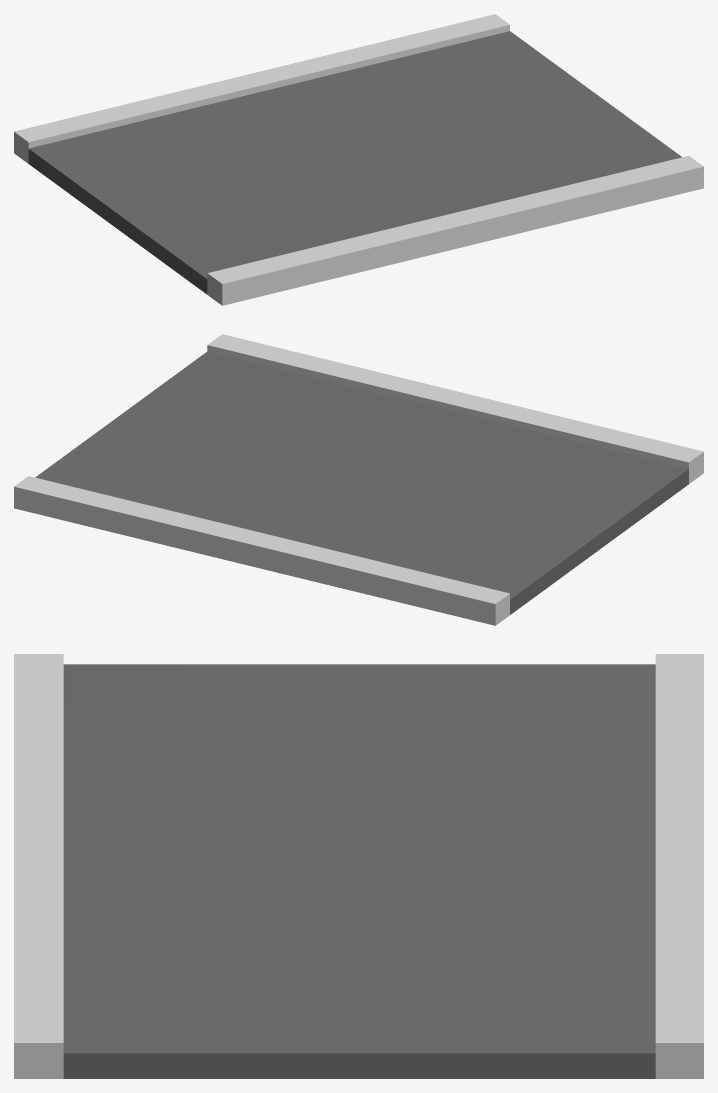
3 views of the same model, one above another, from view 1: azimuth 30°, elevation 25°; view 2: azimuth 150°, elevation 25°; view 3: azimuth 270°, elevation 25° (orthographic). The views are drawn at different scales.
Visible parts, largest first — view 1: Lo-Body_01; view 2: Lo-Body_01; view 3: Lo-Body_01.
Part boxes in pixels (box(x1,y1,x2,y2)): Lo-Body_01: box(14, 14, 703, 305); Lo-Body_01: box(14, 334, 703, 625); Lo-Body_01: box(14, 654, 703, 1078).
Bounding box in the file's own units: 8.39 × 0.3619 × 6.29.
1 material, 1 textured.
